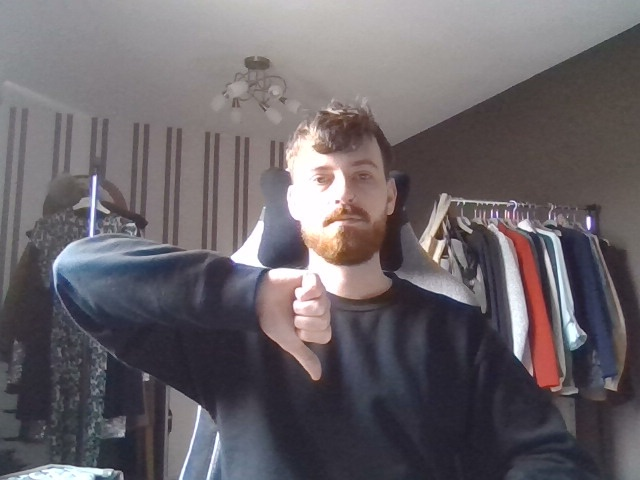Thumbs Down: (245, 248, 350, 388)
